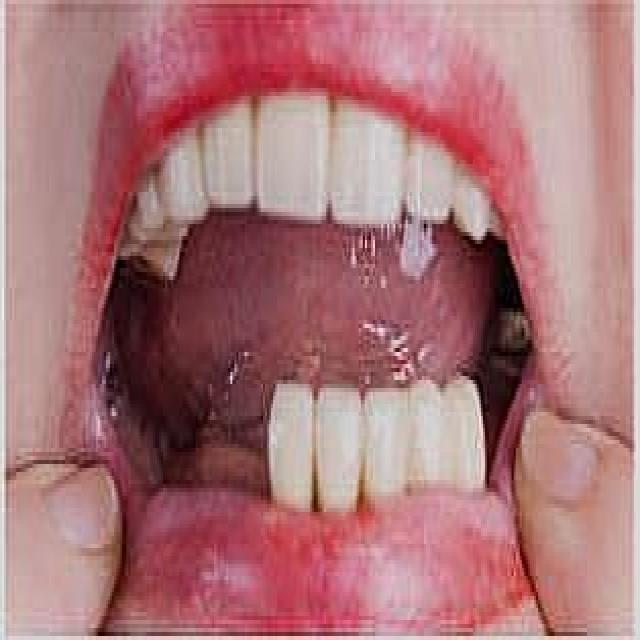caries: (218, 371, 288, 513)
